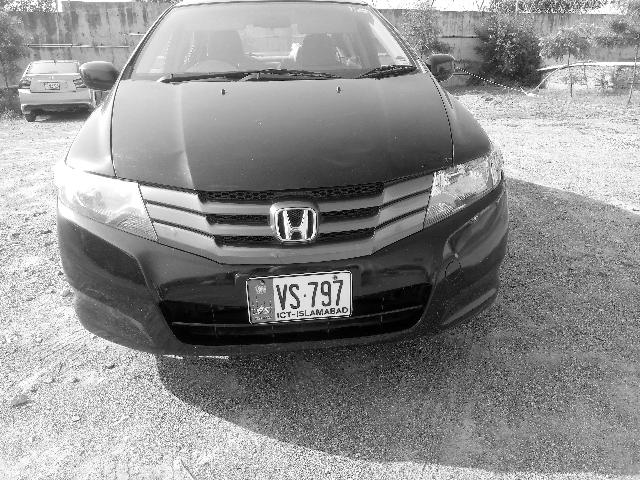Number: (274, 277, 345, 311)
